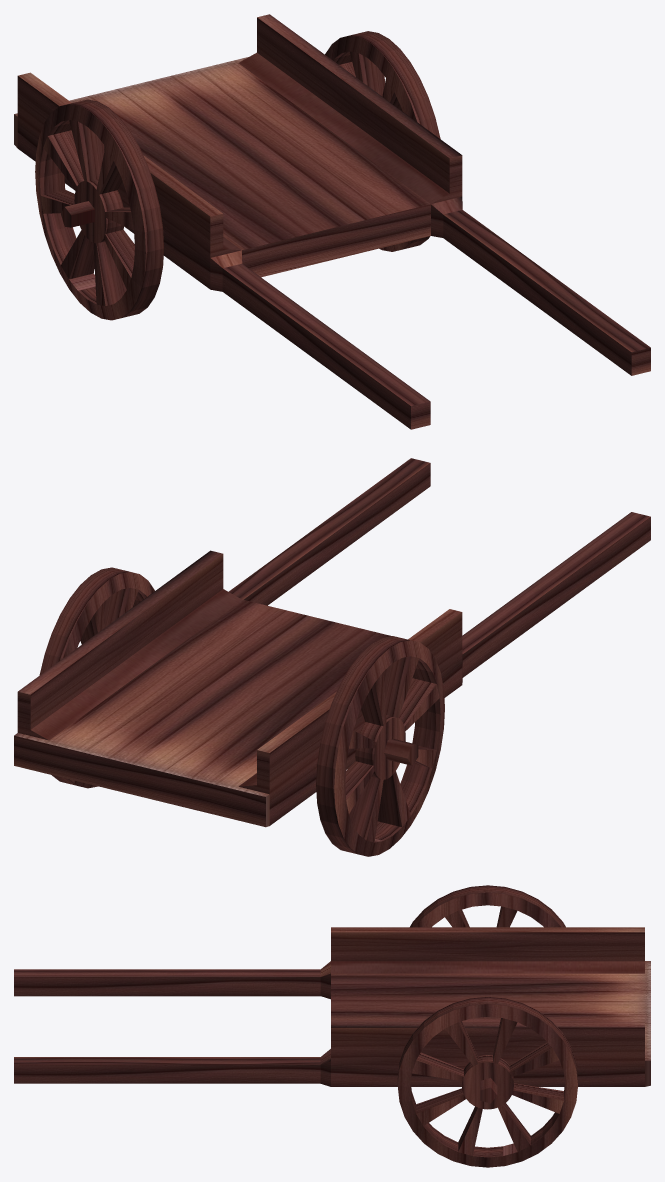
File: chariot.glb
3 views of the same model, one above another, from view 1: azimuth 30°, elevation 25°; view 2: azimuth 150°, elevation 25°; view 3: azimuth 270°, elevation 25° (orthographic). The views are drawn at different scales.
Visible parts, largest first — view 1: chariot_mesh, Chariot wheel.001, Chariot wheel.002, chariotaxis; view 2: chariot_mesh, Chariot wheel.001, Chariot wheel.002, chariotaxis; view 3: chariot_mesh, Chariot wheel.002, Chariot wheel.001.
Part boxes in pixels (bbox=[...]): chariot_mesh: bbox=[14, 14, 650, 429]; Chariot wheel.001: bbox=[35, 99, 163, 320]; Chariot wheel.002: bbox=[325, 31, 440, 251]; chariotaxis: bbox=[61, 201, 94, 227]; chariot_mesh: bbox=[14, 458, 650, 827]; Chariot wheel.001: bbox=[316, 636, 444, 856]; Chariot wheel.002: bbox=[39, 567, 154, 788]; chariotaxis: bbox=[384, 739, 418, 765]; chariot_mesh: bbox=[14, 927, 650, 1086]; Chariot wheel.002: bbox=[397, 997, 577, 1167]; Chariot wheel.001: bbox=[410, 885, 565, 927].
Bounding box in the file's own units: 2.76 × 1.52 × 5.38.
1 material, 1 textured.
